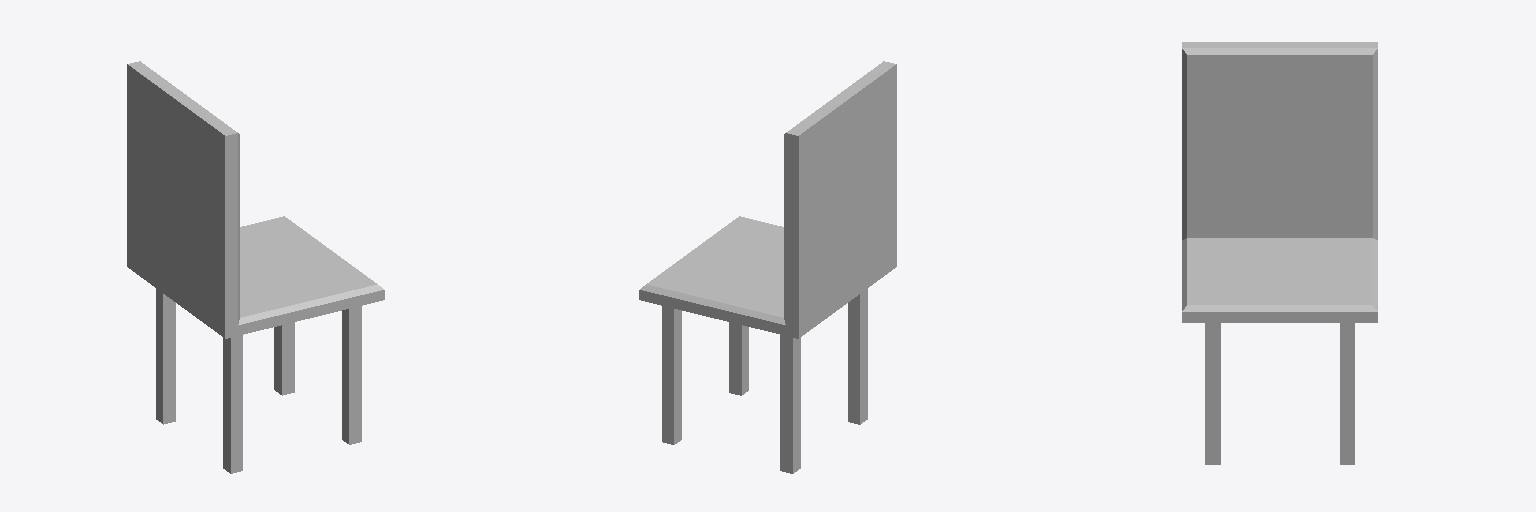
Rendered from chair.obj.
3 views of the same model, side by side, from view 1: azimuth 30°, elevation 25°; view 2: azimuth 150°, elevation 25°; view 3: azimuth 270°, elevation 25° (orthographic).
Visible parts, largest first — view 1: chair; view 2: chair; view 3: chair.
Boxes of the visible parts, box(x1,y1,x2,y2) form: chair: box(127, 61, 384, 473); chair: box(639, 61, 896, 473); chair: box(1182, 42, 1377, 464).
Bounding box in the file's own units: 0.9366 × 1.97 × 1.